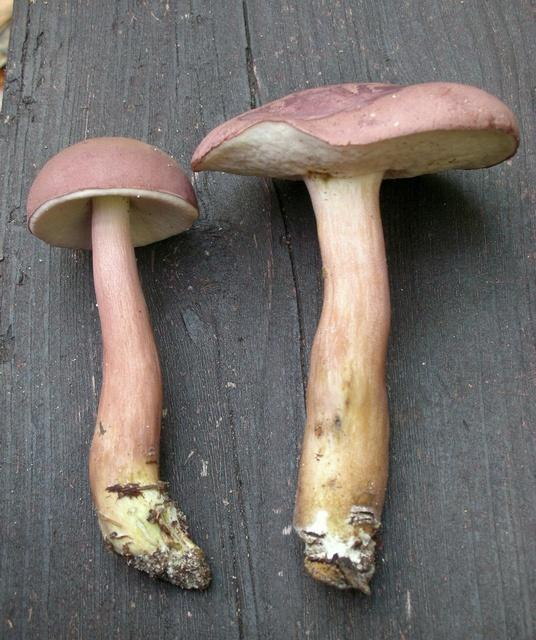Non-edible Mushroom: (189, 78, 520, 595), (25, 134, 213, 591)
